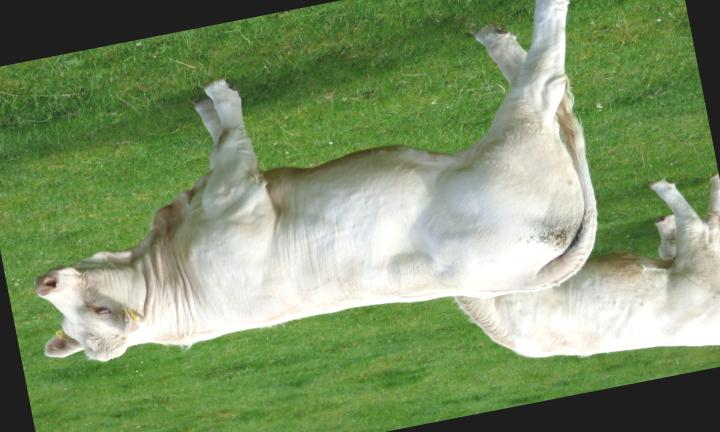Charolais: (36, 0, 597, 361)
